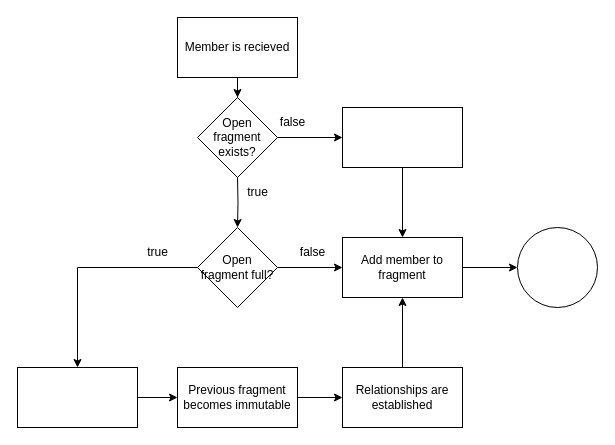
This 615x445 diagram has some shape labels left out. The box of each missing label's shape, as (x1, y1, x2, y2) in pixels:
END: (516, 226, 598, 308)
First fragment is created with page number 1: (342, 106, 462, 168)
New fragment is created: (16, 366, 138, 428)
